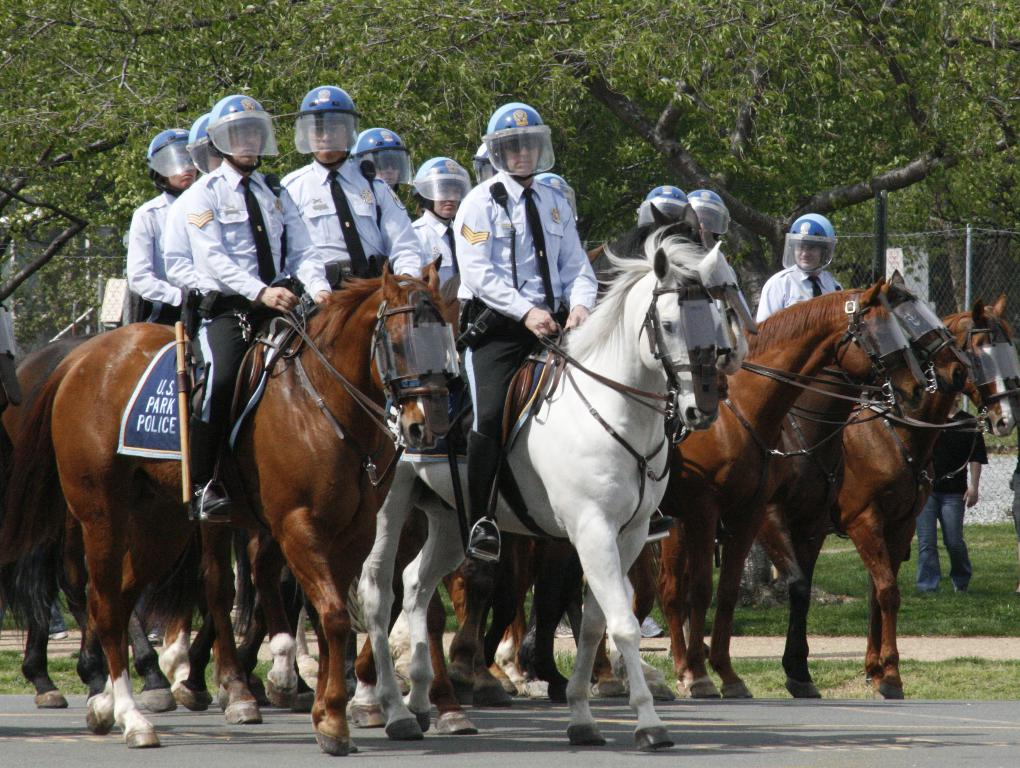Person: (127, 86, 989, 592)
